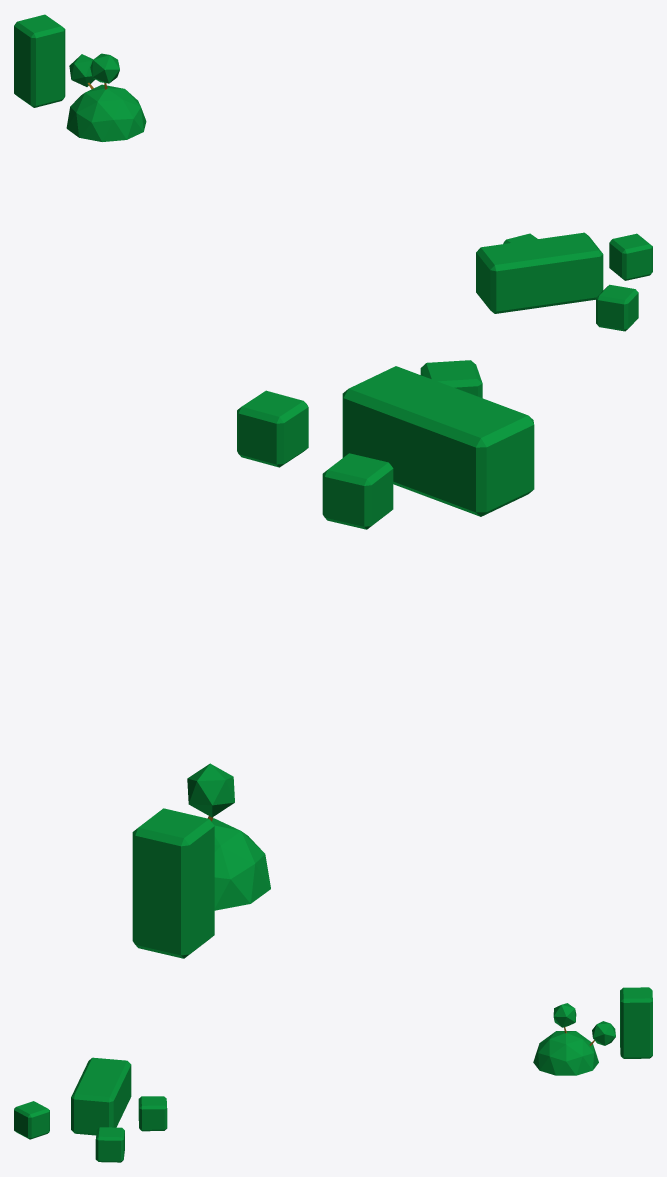
The model's file is forest-details-5.fbx.
3 renders of one model, top to bottom at view 1: azimuth 30°, elevation 25°; view 2: azimuth 150°, elevation 25°; view 3: azimuth 270°, elevation 25°, orthographic. The views are drawn at different scales.
Visible parts, largest first — view 1: forest-details-5; view 2: forest-details-5; view 3: forest-details-5.
Part boxes in pixels (left/top/right/bottom): forest-details-5: left=14, top=14, right=652, bottom=331; forest-details-5: left=132, top=360, right=534, bottom=958; forest-details-5: left=14, top=987, right=652, bottom=1162.
Bounding box in the file's own units: 0.6525 × 0.1564 × 1.5.
